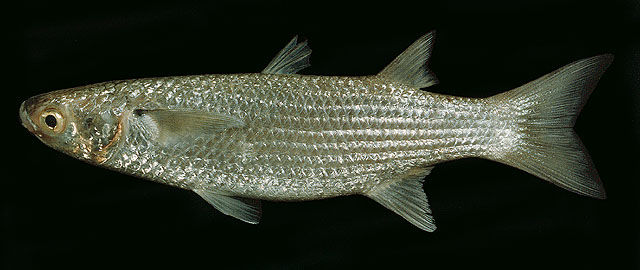fish: (19, 33, 609, 233)
